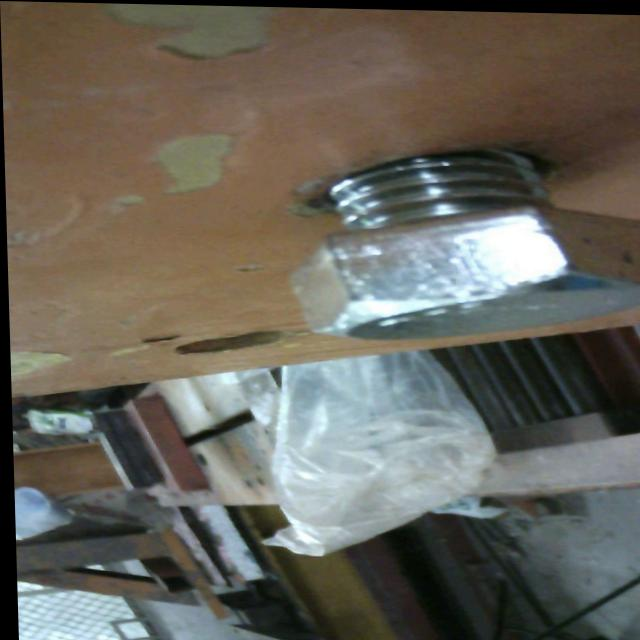Loose bolt: (284, 137, 640, 347)
Missing bolt: (170, 326, 282, 355)
Regular bolt: (298, 150, 638, 344)
